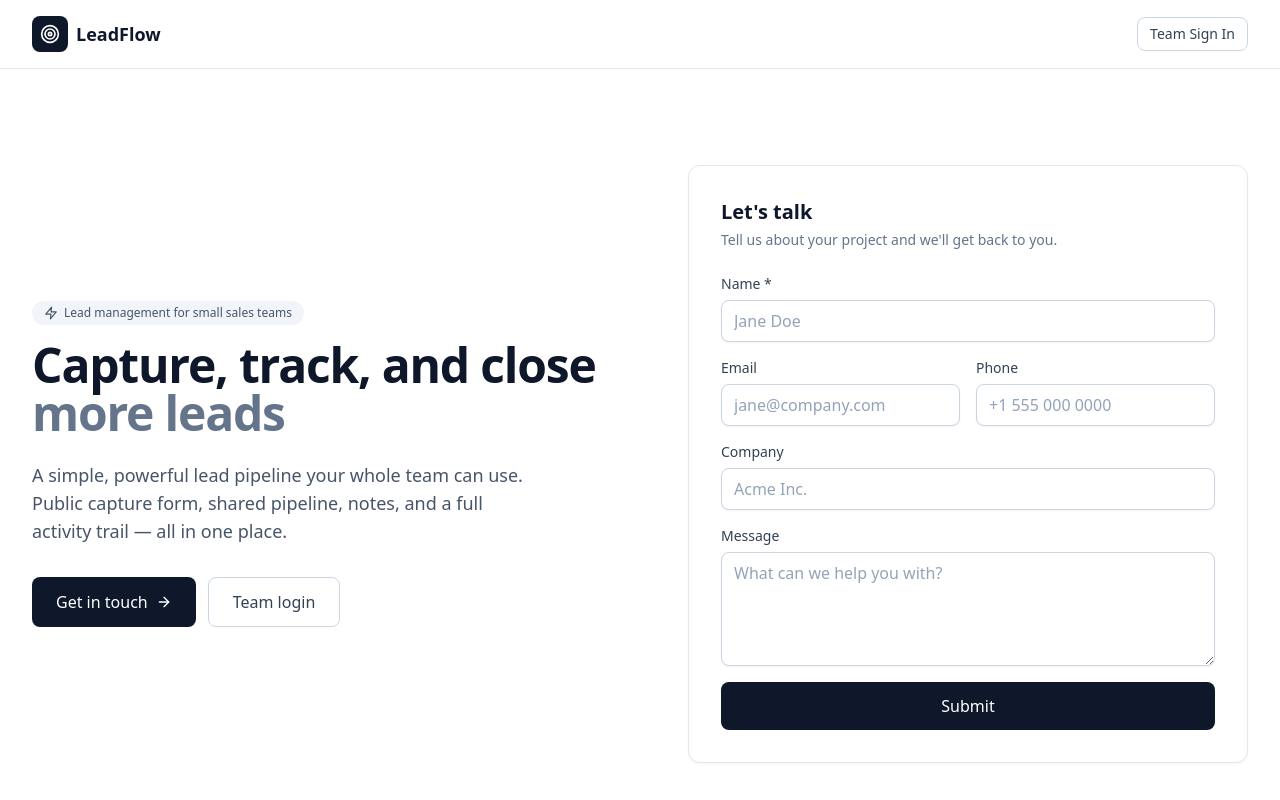
Test: Lead capture flow (public) › shows an error message when submission fails
In the field with placeholder "Jane Doe": [968, 321] box [721,300,1215,342], type "Jane"
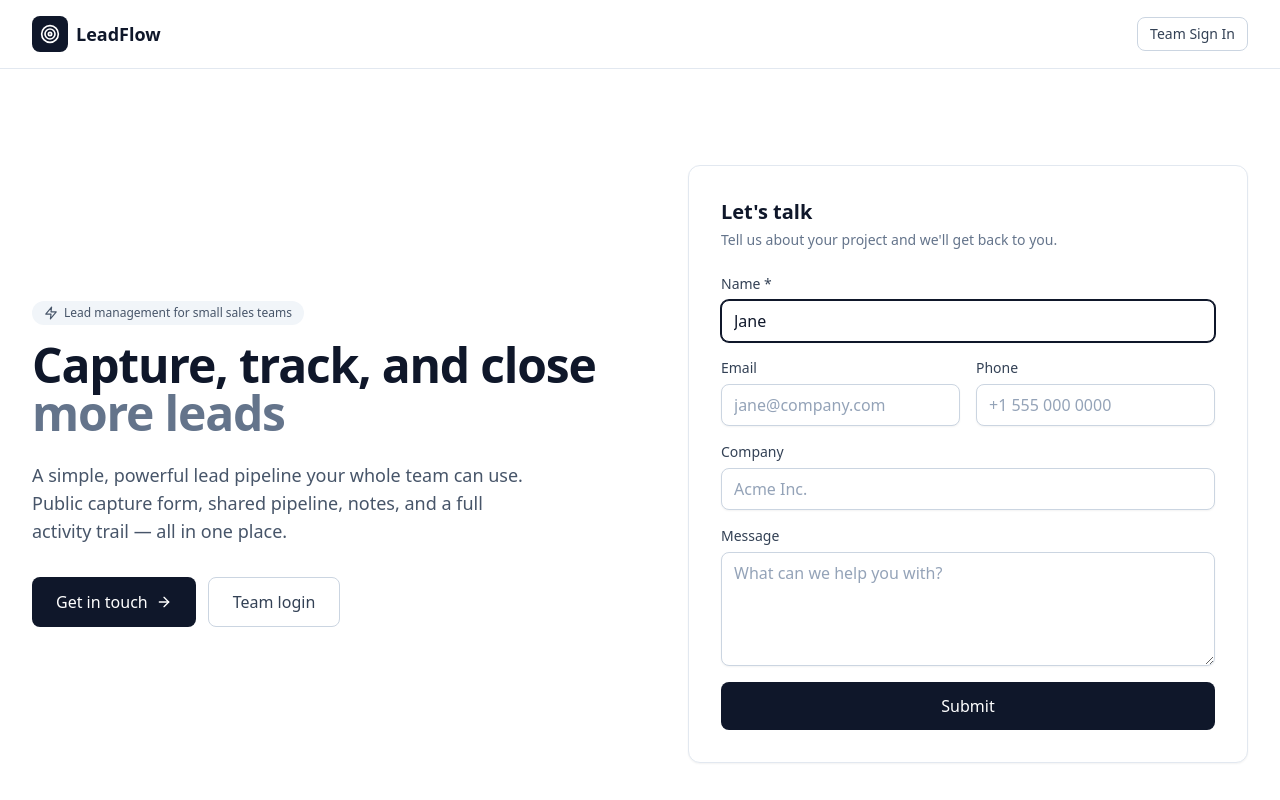
Click the button "Submit": [968, 706] box [721,682,1215,730]
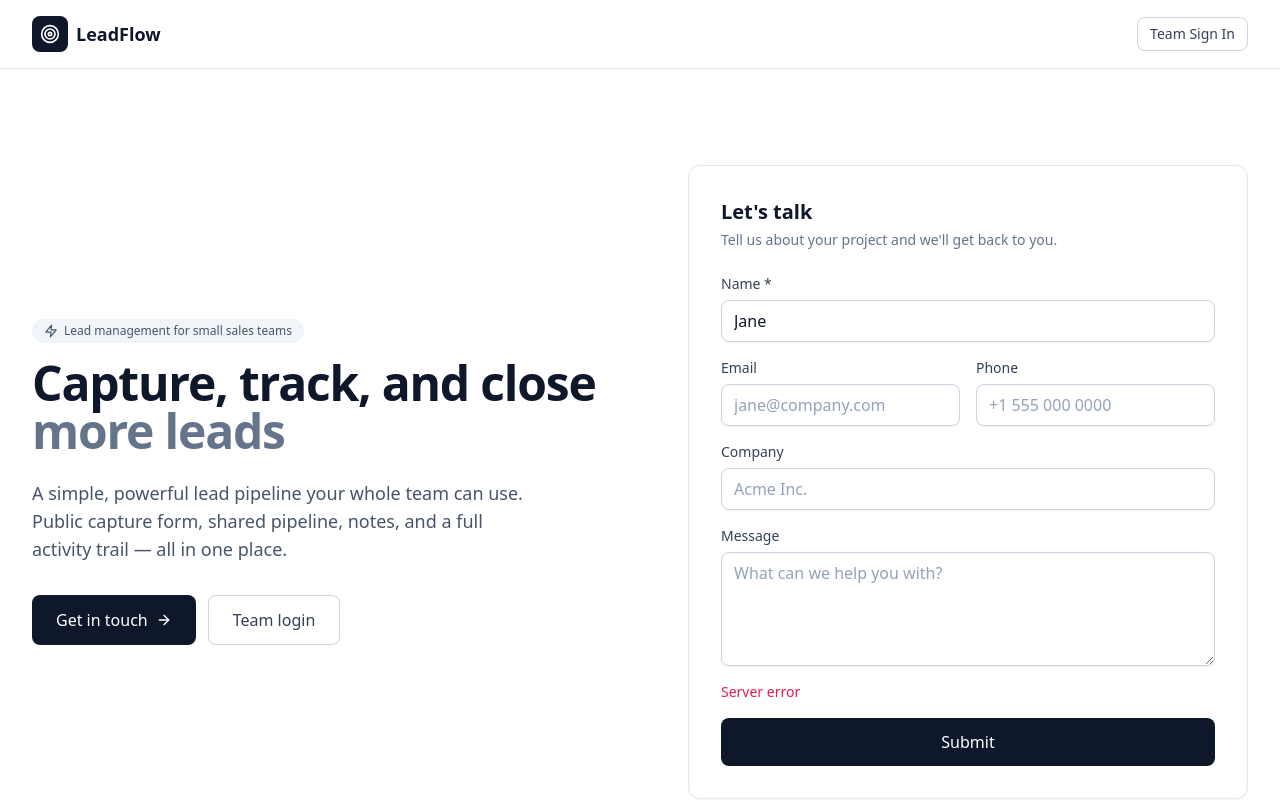
Result: the text "Server error" is shown at [721,682,800,701]
